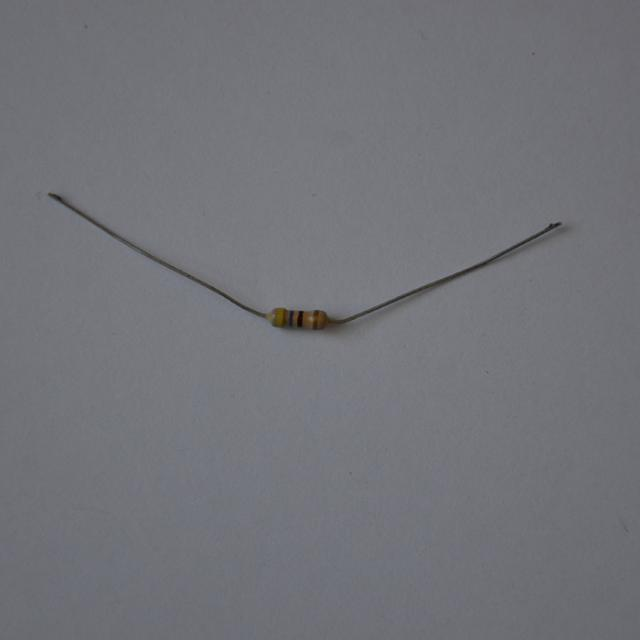brown: (296, 311, 302, 326)
gold: (314, 311, 317, 328)
resistor: (261, 301, 335, 342)
violet: (288, 309, 293, 325)
yellow: (278, 308, 283, 325)
